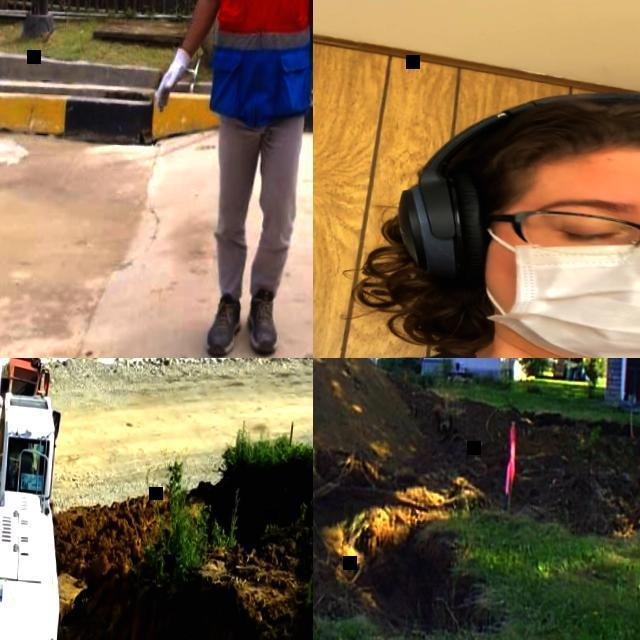no_helmet: (448, 83, 640, 357)
